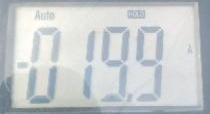ClampMeter_Display: (0, 0, 210, 114)
